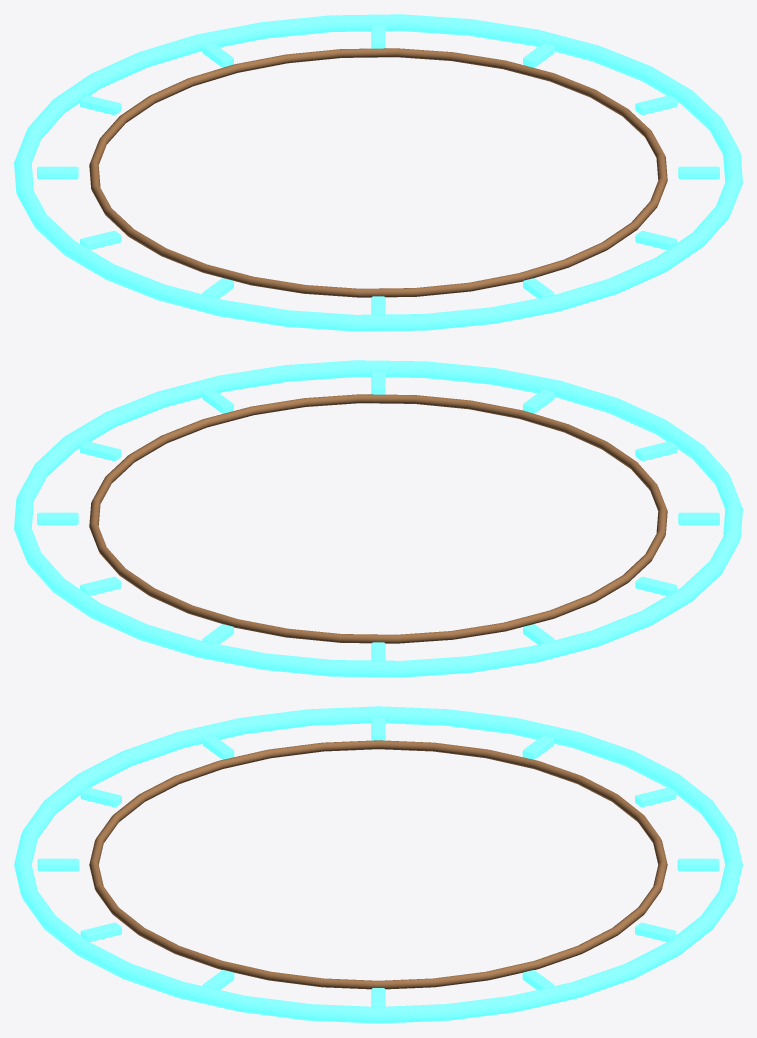
File: SM_RuneRing.fbx
The picture shows the model from 3 angles, top to bottom: view 1: azimuth 30°, elevation 25°; view 2: azimuth 150°, elevation 25°; view 3: azimuth 270°, elevation 25°; orthographic projection.
Visible parts, largest first — view 1: SM_RuneRing; view 2: SM_RuneRing; view 3: SM_RuneRing.
Part boxes in pixels (x1,y1,x2,y2): SM_RuneRing: (14, 14, 742, 331); SM_RuneRing: (14, 360, 742, 677); SM_RuneRing: (14, 706, 742, 1023).
Size of the model in its own units: 1.23 by 1.23 by 0.03.
